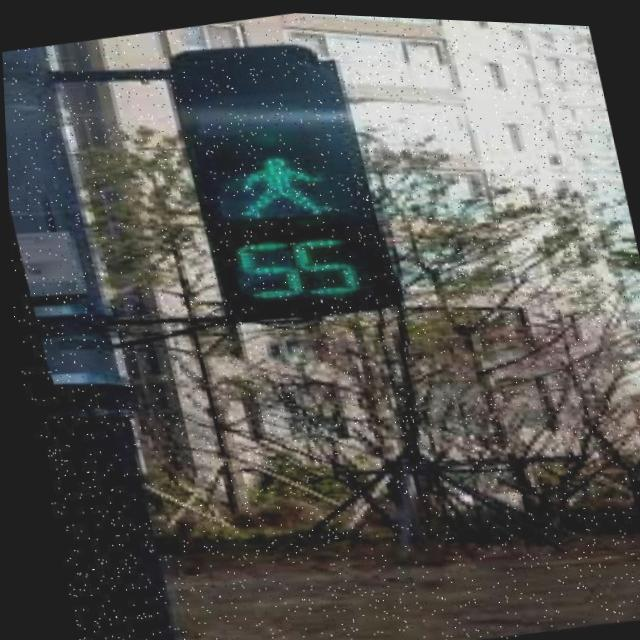green_light: (186, 126, 381, 322)
